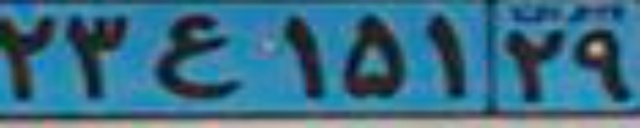1: (422, 14, 469, 95), (281, 14, 323, 98)
2: (0, 14, 54, 101), (508, 27, 561, 101)
3: (62, 14, 131, 98)
5: (336, 13, 404, 95)
9: (575, 29, 631, 102)
ain: (150, 15, 244, 97)
